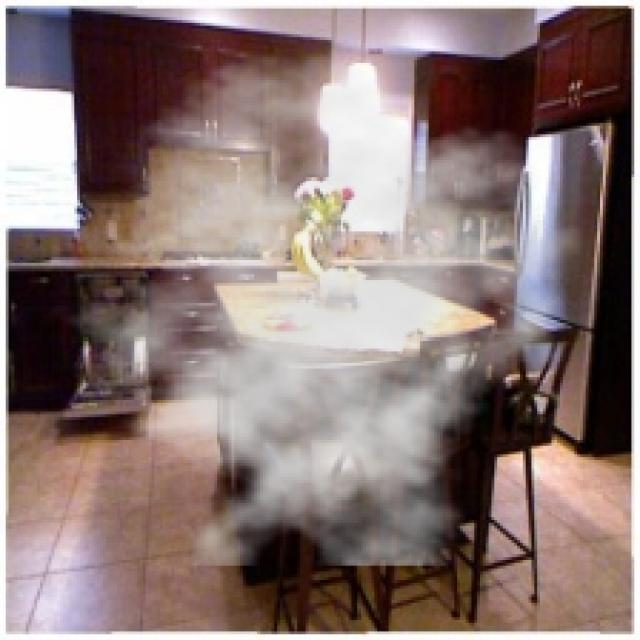Smoke: (43, 51, 586, 566)
